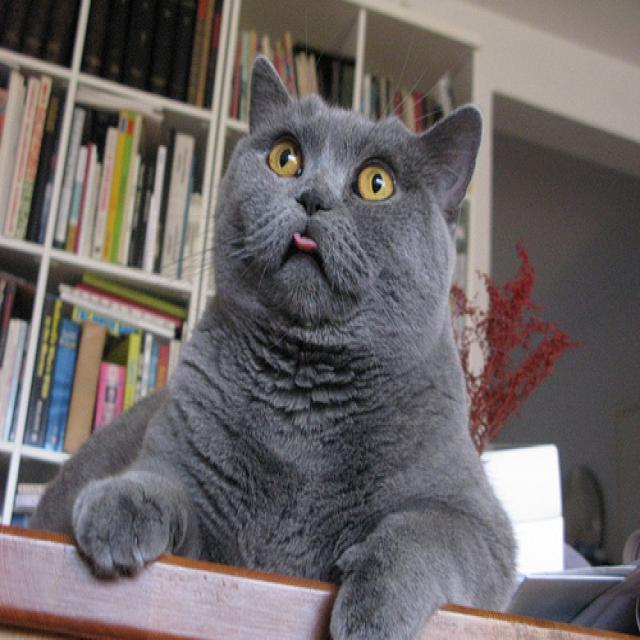British_Shorthair: (214, 53, 479, 321)
